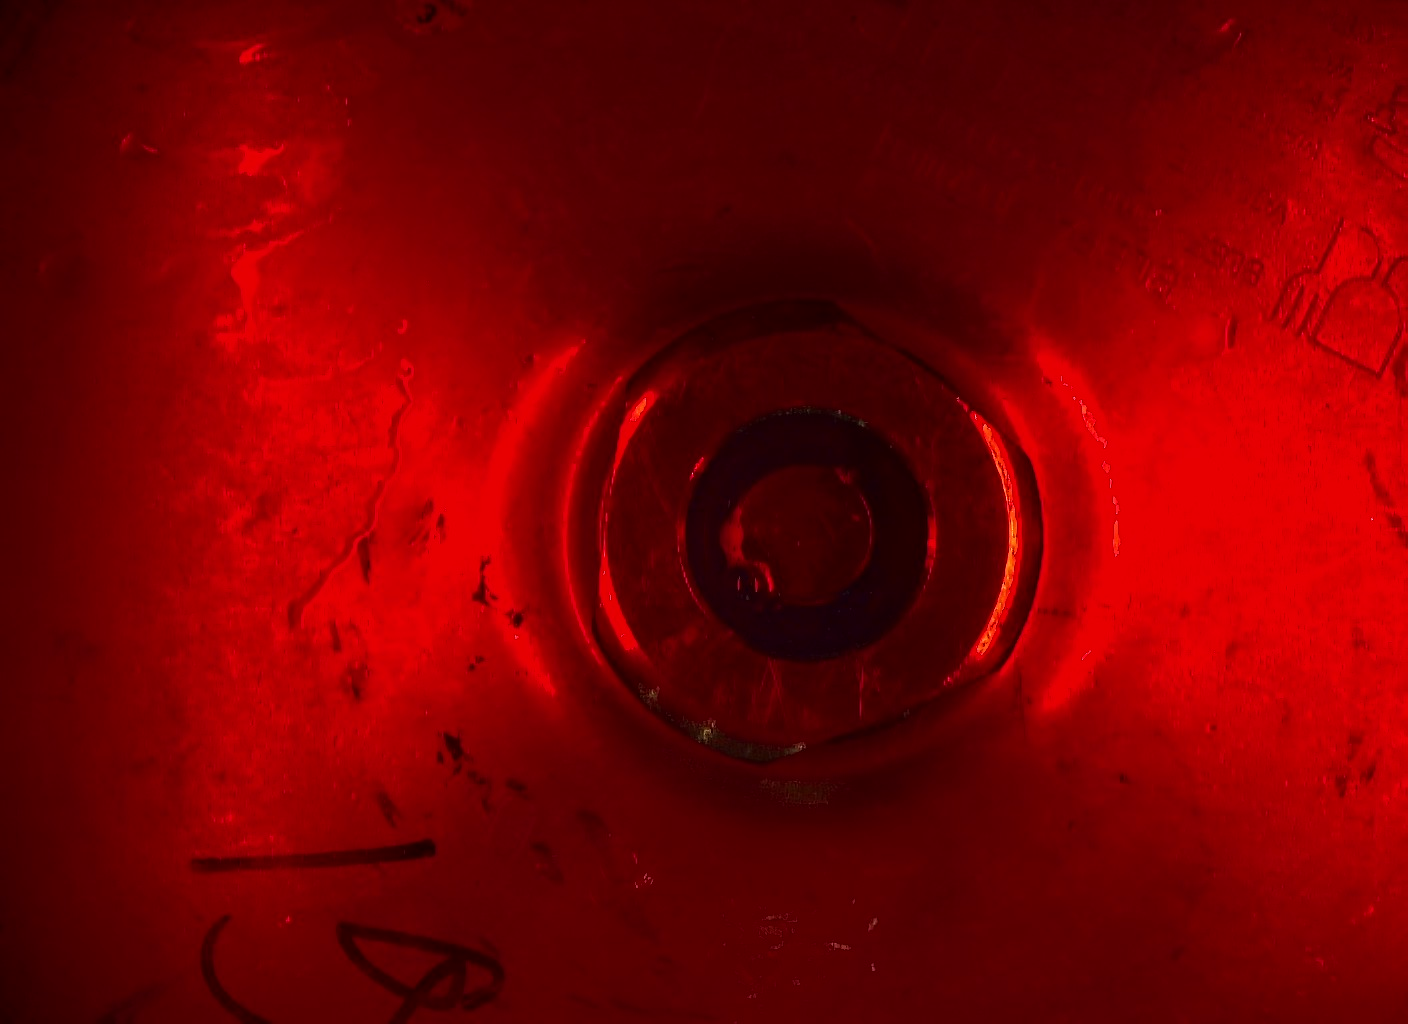pena: (712, 501, 779, 619), (828, 454, 860, 502)
